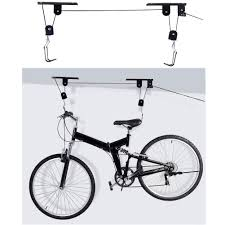bicycle: (26, 106, 206, 222)
